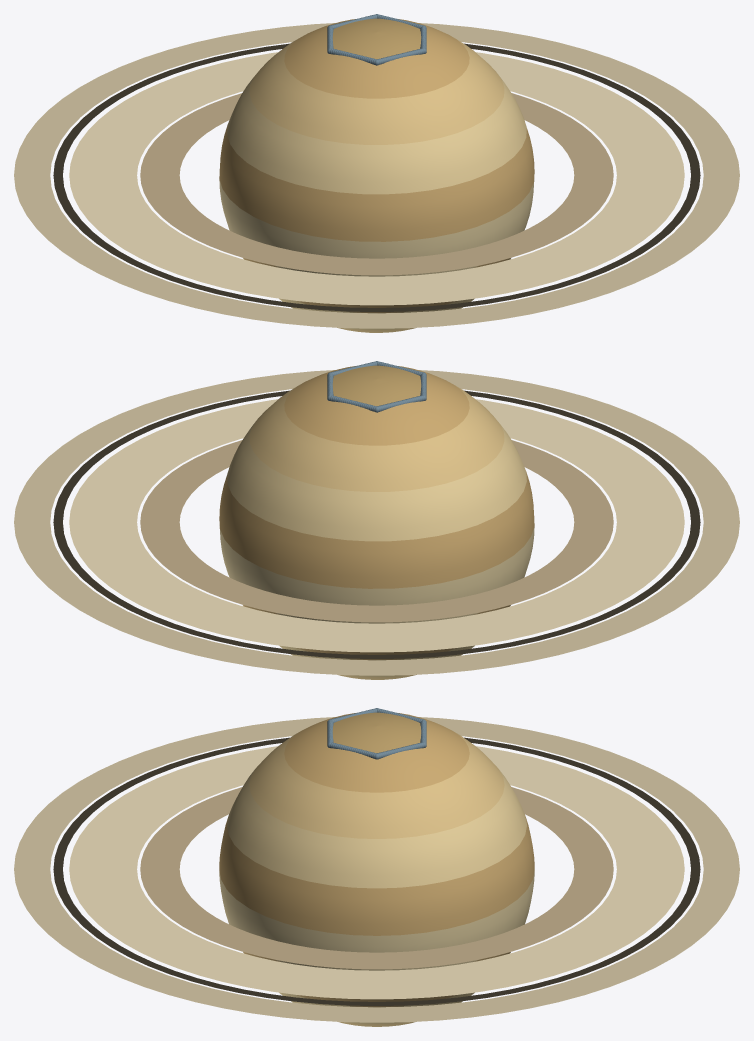
Rendered from saturno.glb.
The picture shows the model from 3 angles, top to bottom: view 1: azimuth 30°, elevation 25°; view 2: azimuth 150°, elevation 25°; view 3: azimuth 270°, elevation 25°; orthographic projection.
Parts seen in each view (by area): view 1: saturno; view 2: saturno; view 3: saturno.
Part boxes in pixels (x1,y1,x2,y2): saturno: (14, 14, 739, 332); saturno: (14, 361, 739, 679); saturno: (14, 708, 739, 1026).
Bounding box in the file's own units: 4.6 × 2 × 4.6.
